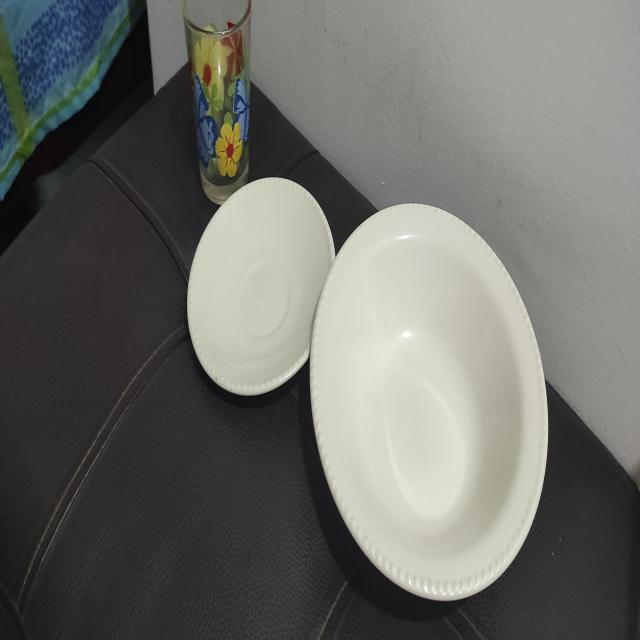non-organic waste: (294, 172, 563, 608), (186, 140, 329, 416)
